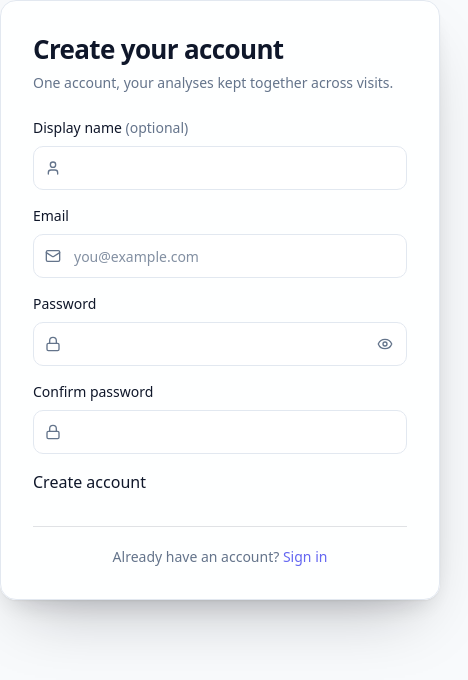
it: Register page › grows the strength hint with length, mirroring the server rule
Type "abcdefg" into the password field labelled "Password" at (220,344), box 33,322 -> 407,366
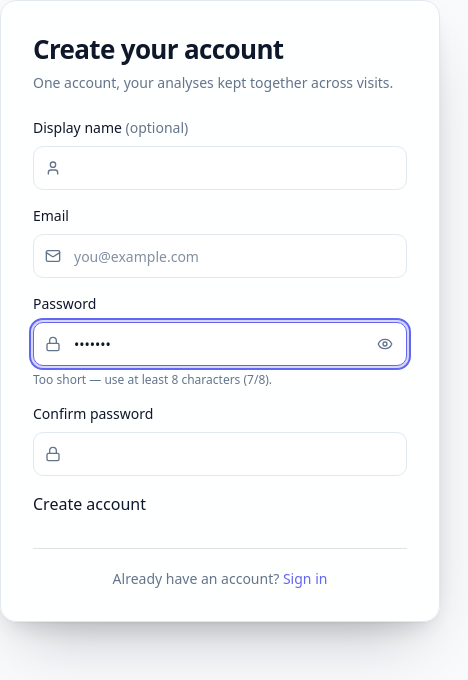
Expected: the text "Too short — use at least 8 characters (7/8)." is shown, 33,371 -> 272,388
Type "h" into the password field labelled "Password" at (220,344), box 33,322 -> 407,366
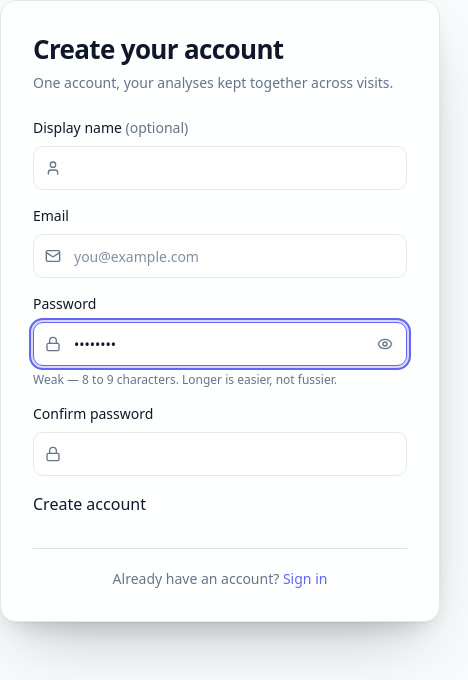
Expected: the text "Weak — 8 to 9 characters. Longer is easier, not fussier." is shown, 33,371 -> 337,388
Type "ij" into the password field labelled "Password" at (220,344), box 33,322 -> 407,366
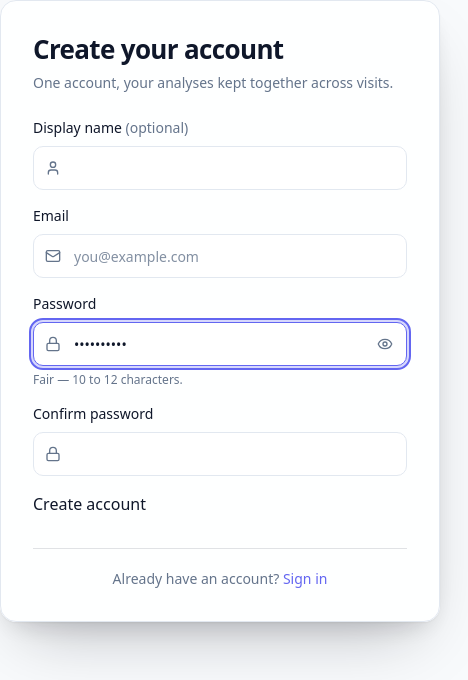
Expected: the text "Fair — 10 to 12 characters." is shown, 33,371 -> 183,388
